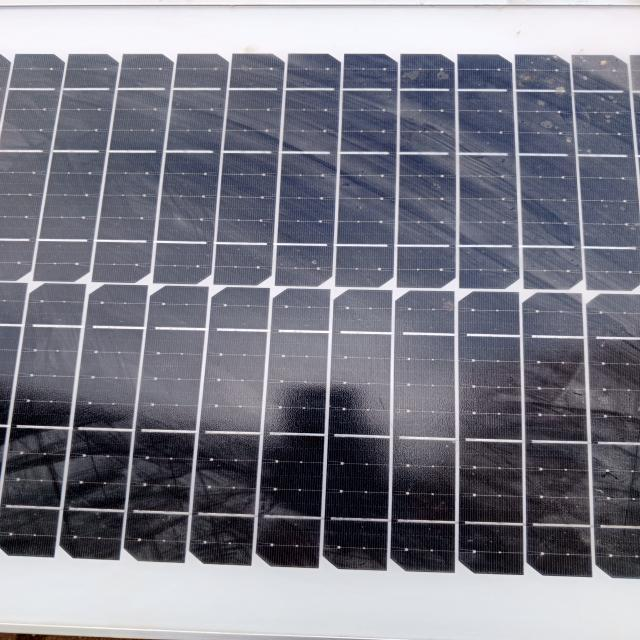Surface Contaminant: (348, 46, 639, 507)
